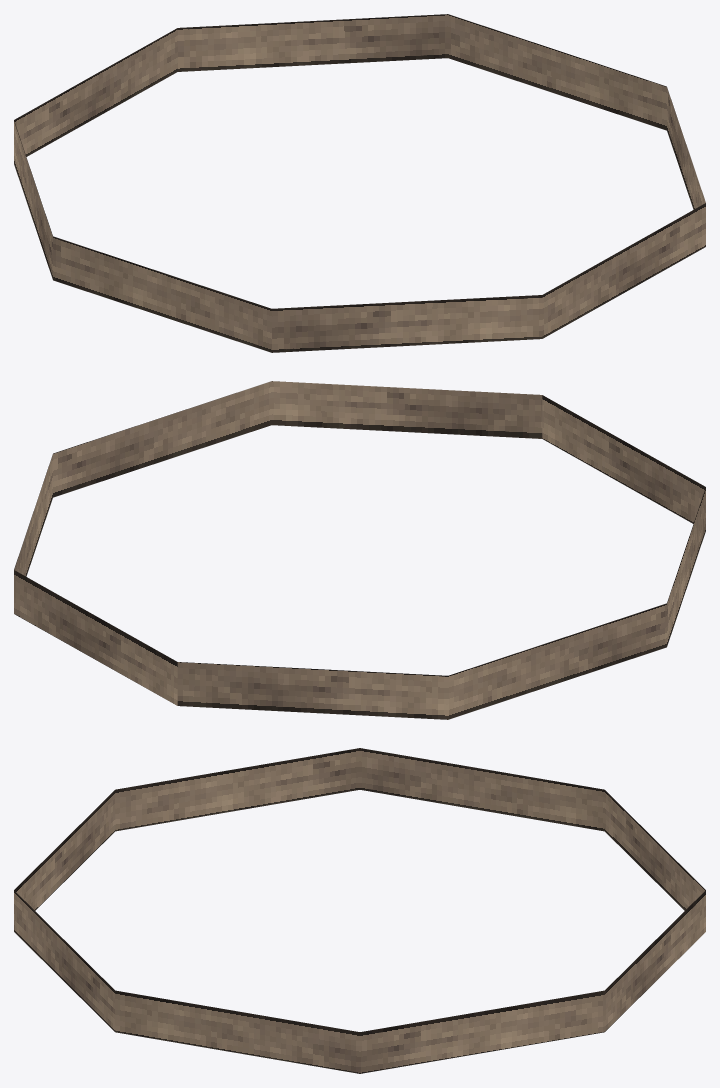
The model's file is group.002_lev3.glb.
The picture shows the model from 3 angles, top to bottom: view 1: azimuth 30°, elevation 25°; view 2: azimuth 150°, elevation 25°; view 3: azimuth 270°, elevation 25°; orthographic projection. The views are drawn at different scales.
Parts seen in each view (by area): view 1: group.002_lev3; view 2: group.002_lev3; view 3: group.002_lev3.
Part boxes in pixels (x1,y1,x2,y2): group.002_lev3: (14,14,705,352); group.002_lev3: (14,381,705,719); group.002_lev3: (14,748,705,1073).
Bounding box in the file's own units: 13.43 × 0.9212 × 13.82.
1 material, 1 textured.
